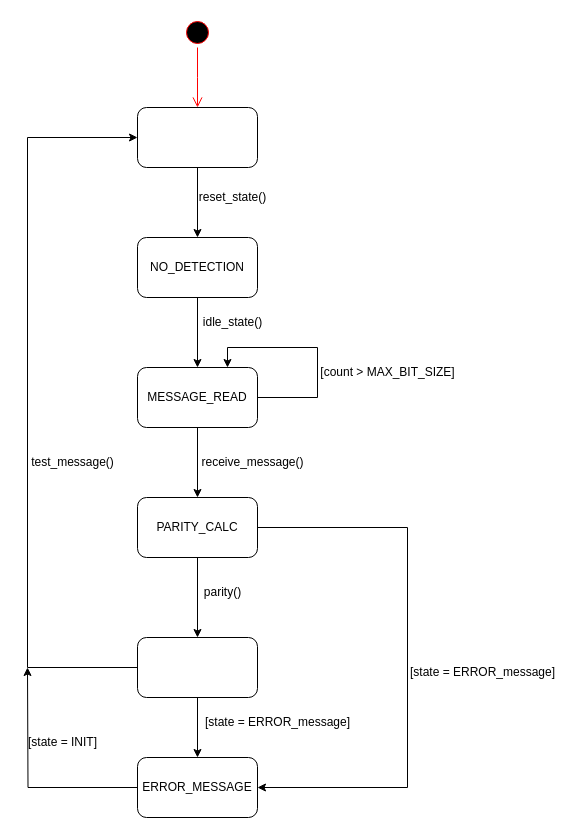
Image size: 584x835. Some labels were removed from this diagram. Each missing label, with the box of its shape:
INIT: (136, 106, 258, 168)
TEST: (136, 636, 258, 698)
